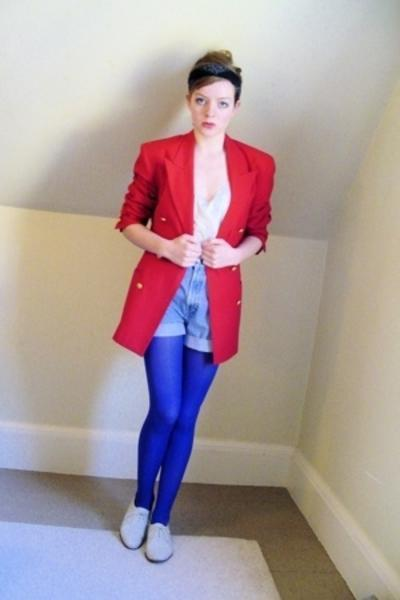jacket: (113, 128, 274, 364)
shirt: (181, 168, 230, 292)
shoe: (115, 504, 170, 558)
